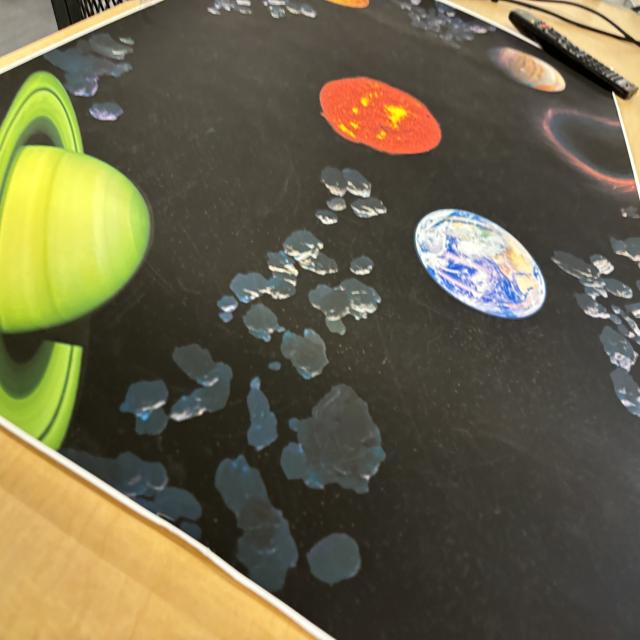Asteroids: (139, 181, 381, 586), (556, 208, 640, 420), (69, 23, 135, 121), (406, 2, 481, 47), (215, 0, 314, 18)
Earth: (416, 205, 545, 324)
Saturn: (0, 63, 151, 469)
Sun: (319, 73, 443, 156), (486, 41, 566, 98)
